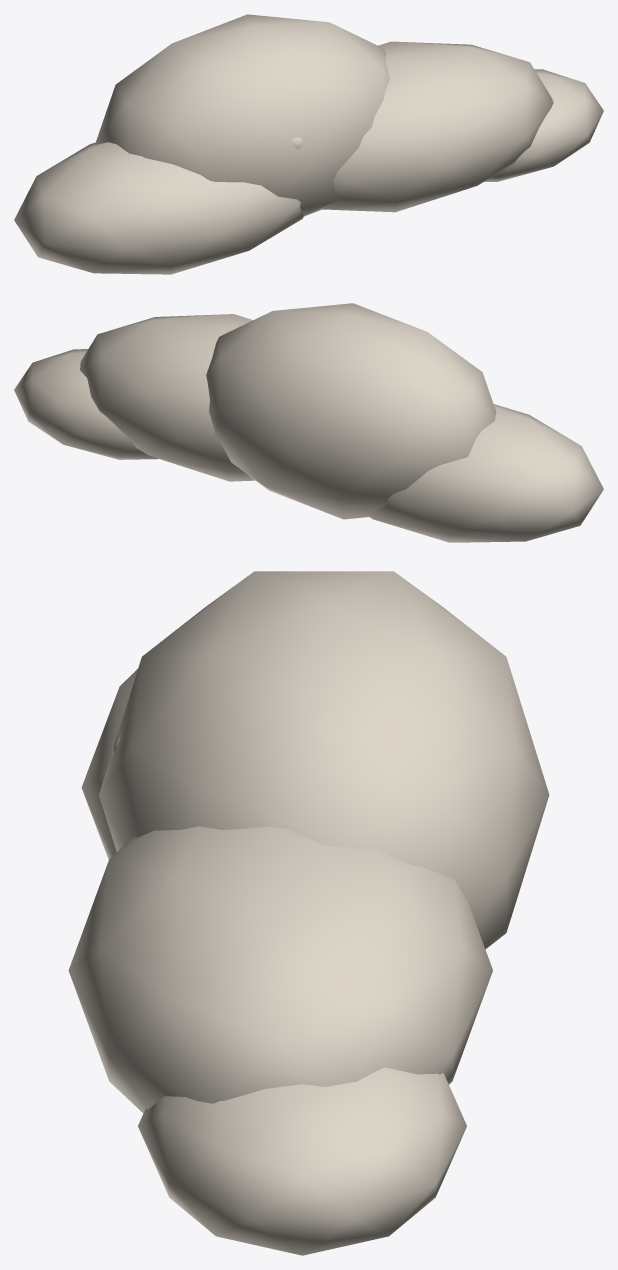
Rendered from milk_foam_drift_v2.glb.
The picture shows the model from 3 angles, top to bottom: view 1: azimuth 30°, elevation 25°; view 2: azimuth 150°, elevation 25°; view 3: azimuth 270°, elevation 25°; orthographic projection. The views are drawn at different scales.
Visible parts, largest first — view 1: milk_foam_drift_v2__orbit-milk-foam; view 2: milk_foam_drift_v2__orbit-milk-foam; view 3: milk_foam_drift_v2__orbit-milk-foam.
Part boxes in pixels (left/top/right/bottom): milk_foam_drift_v2__orbit-milk-foam: left=14, top=14, right=603, bottom=274; milk_foam_drift_v2__orbit-milk-foam: left=14, top=303, right=603, bottom=542; milk_foam_drift_v2__orbit-milk-foam: left=68, top=571, right=549, bottom=1255.
Size of the model in its own units: 56.72 by 19.31 by 21.23.
